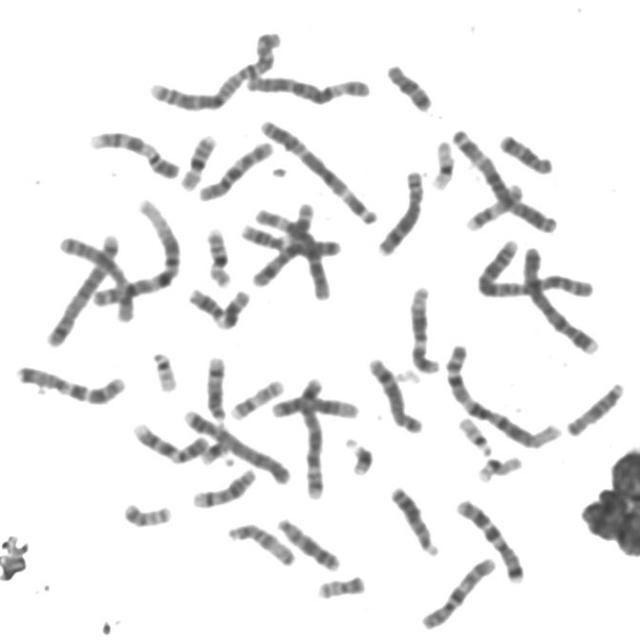A1: (438, 337, 564, 451), (85, 192, 183, 310)
A2: (142, 25, 284, 113), (472, 235, 597, 302)
A3: (253, 112, 381, 226), (446, 122, 561, 235)
B4: (516, 239, 601, 356), (177, 403, 293, 487)
B5: (40, 226, 123, 348), (294, 369, 328, 501)
C10: (414, 550, 498, 632), (192, 134, 276, 202)
C11: (247, 197, 317, 289), (182, 280, 252, 332)
C12: (403, 279, 442, 375), (265, 390, 361, 421)
C6: (248, 201, 334, 300), (240, 68, 372, 106)
C7: (450, 493, 527, 585), (10, 358, 129, 407)
C8: (362, 351, 425, 435), (372, 164, 426, 258)
C9: (83, 125, 182, 180), (127, 416, 210, 466)
D13: (384, 479, 441, 558), (271, 512, 343, 573)
D14: (186, 462, 259, 510), (200, 350, 229, 424)
D15: (560, 377, 626, 439), (222, 516, 298, 568)
E16: (175, 128, 219, 192), (200, 221, 234, 288)
E17: (461, 178, 526, 232), (223, 373, 286, 422)
E18: (380, 57, 435, 113), (494, 128, 555, 176)
F19: (426, 134, 458, 192), (472, 450, 524, 484)
F20: (116, 496, 175, 530), (311, 570, 368, 602)
G21: (339, 431, 376, 478), (195, 432, 233, 468)
G22: (453, 410, 495, 457), (146, 346, 181, 394)
